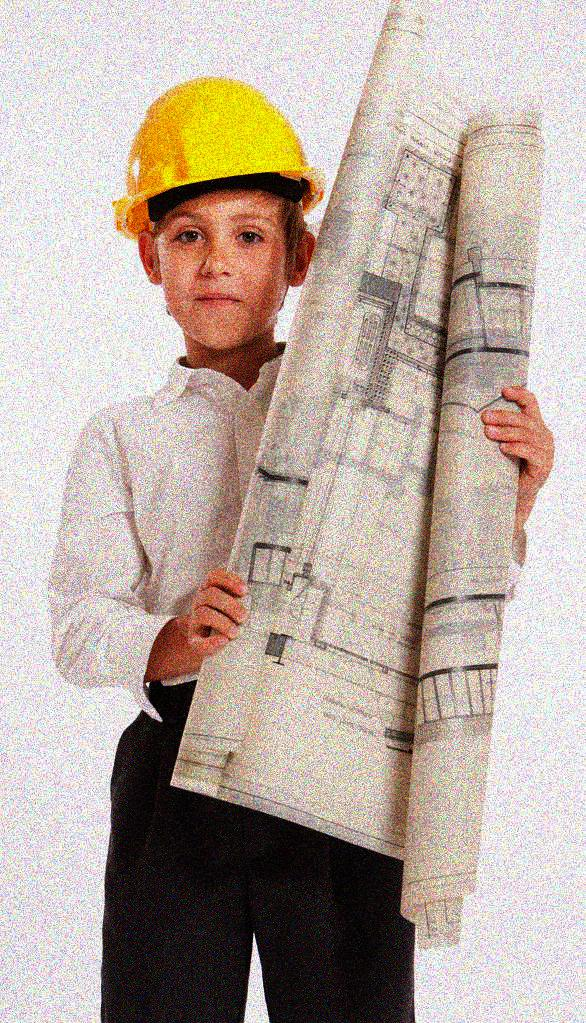helmet: (109, 77, 333, 360)
